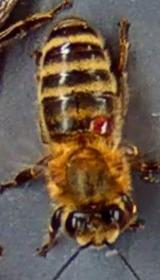varroa_mite: (82, 113, 120, 143)
